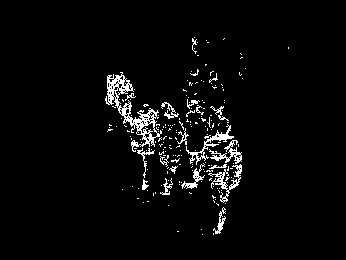person: (203, 116, 245, 239), (156, 100, 185, 199), (127, 105, 158, 192), (183, 97, 210, 188), (103, 66, 134, 132)
